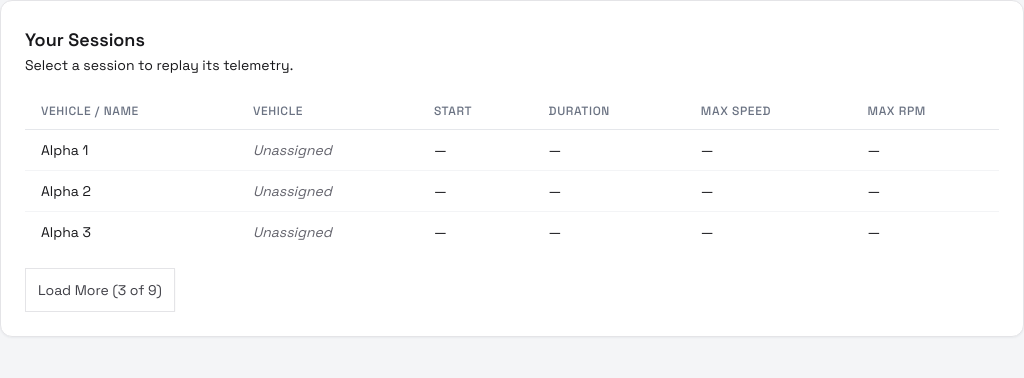
Scenario: SessionBrowser pagination (jsdom) › keeps loaded rows and shows an inline retry when the next page fails
The width and height of the screenshot is (1024, 378).
Click the button "Load More (3 of 9)": click(100, 290) [25,268,175,312]
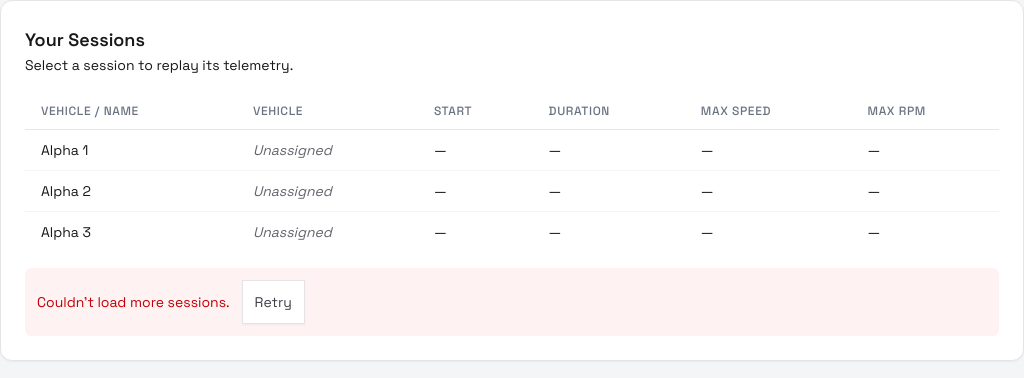
Expected: the message "Couldn't load more sessions." is shown, [37,292,230,312]
Expected: the button "Retry" is shown, [242,280,305,324]
